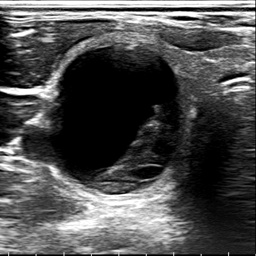mass: (56, 44, 184, 196)
